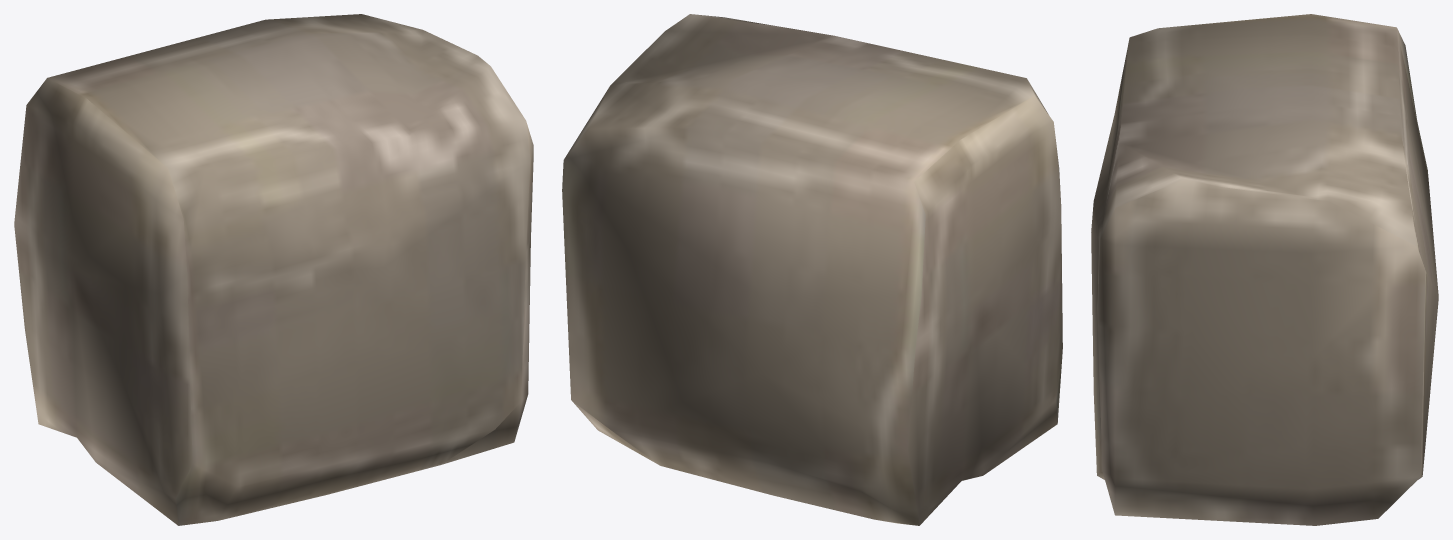
The model's file is prop-qm-propbrick4.glb.
The picture shows the model from 3 angles, left to right: view 1: azimuth 30°, elevation 25°; view 2: azimuth 150°, elevation 25°; view 3: azimuth 270°, elevation 25°; orthographic projection.
Parts seen in each view (by area): view 1: Cube_017_Retopology_003; view 2: Cube_017_Retopology_003; view 3: Cube_017_Retopology_003.
Part boxes in pixels (x1=…): Cube_017_Retopology_003: x1=14, y1=14, x2=533, y2=525; Cube_017_Retopology_003: x1=562, y1=14, x2=1062, y2=525; Cube_017_Retopology_003: x1=1091, y1=14, x2=1438, y2=525.
Size of the model in its own units: 0.2567 by 0.2497 by 0.2156.
1 material, 1 textured.
